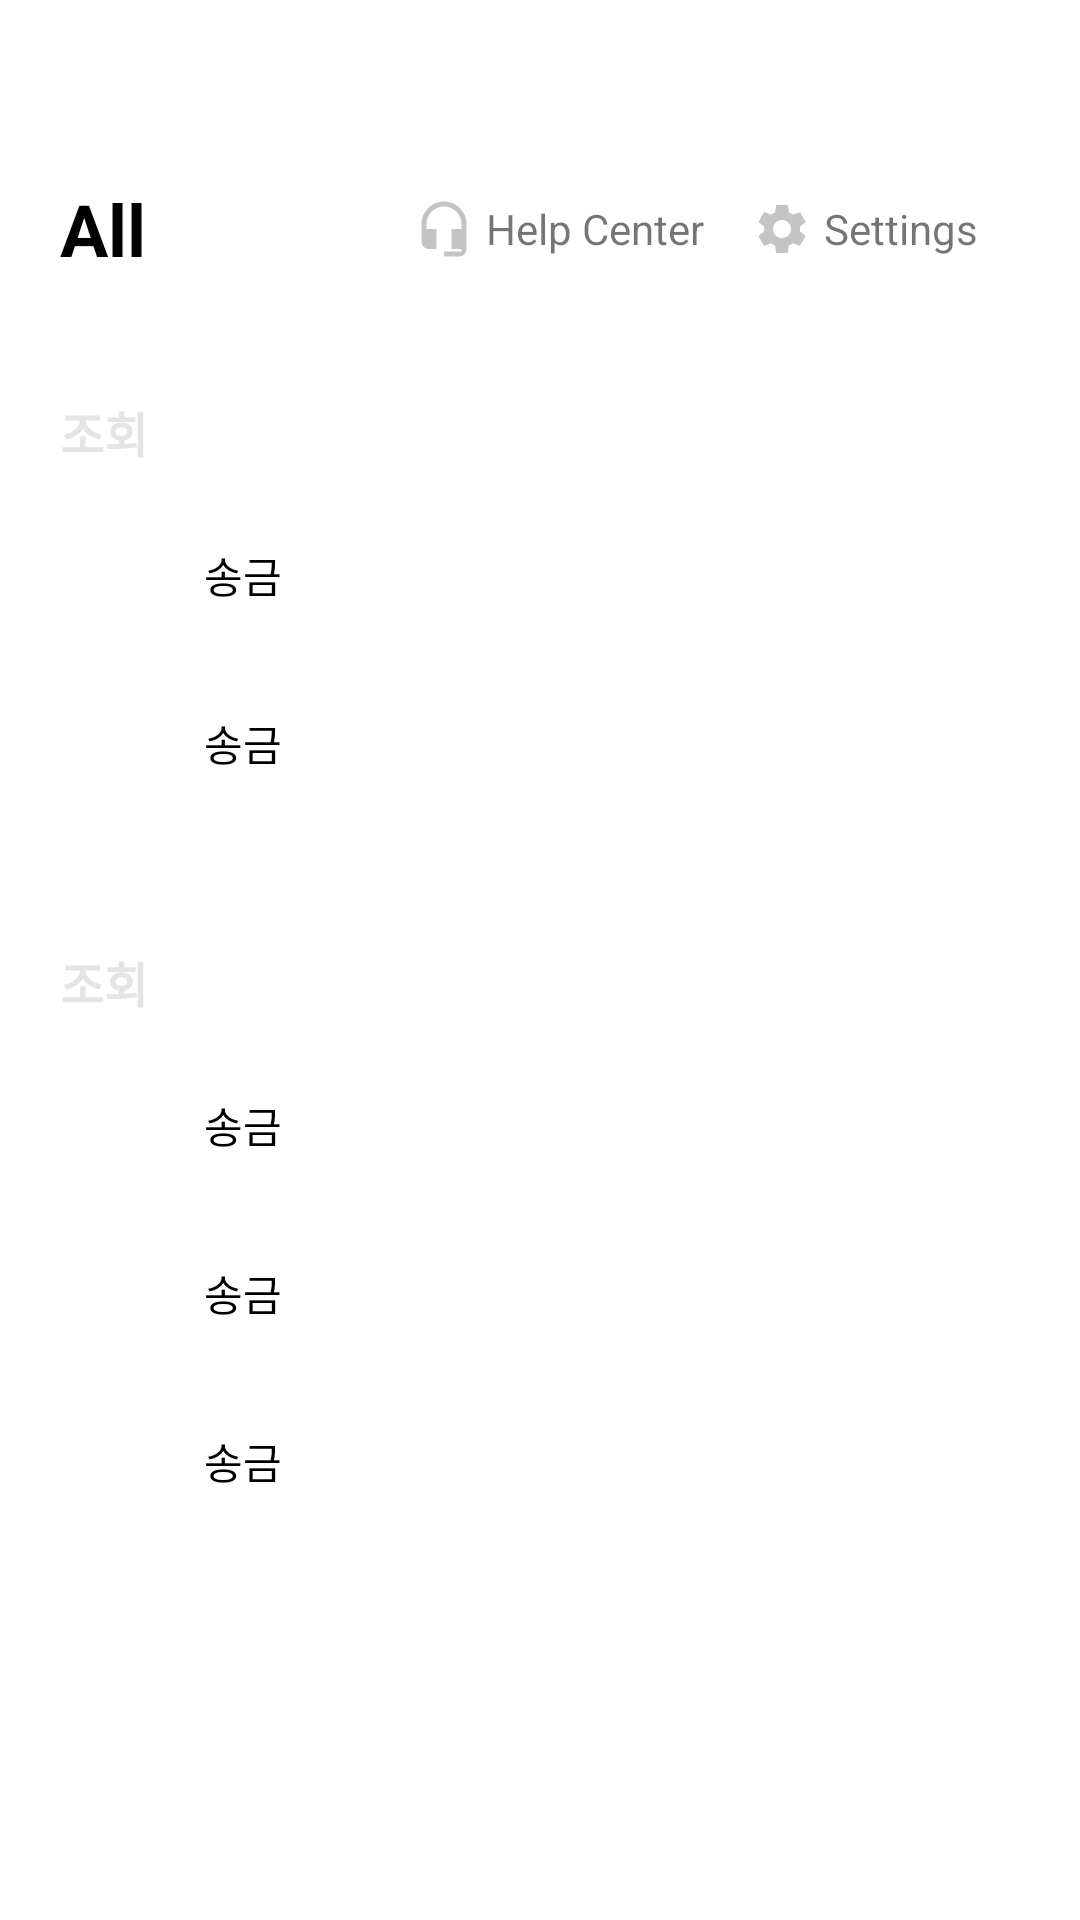

Screen size 1080×1920. Icon name, then its center in pixels as (x,y):
headset mic: (444,229)
